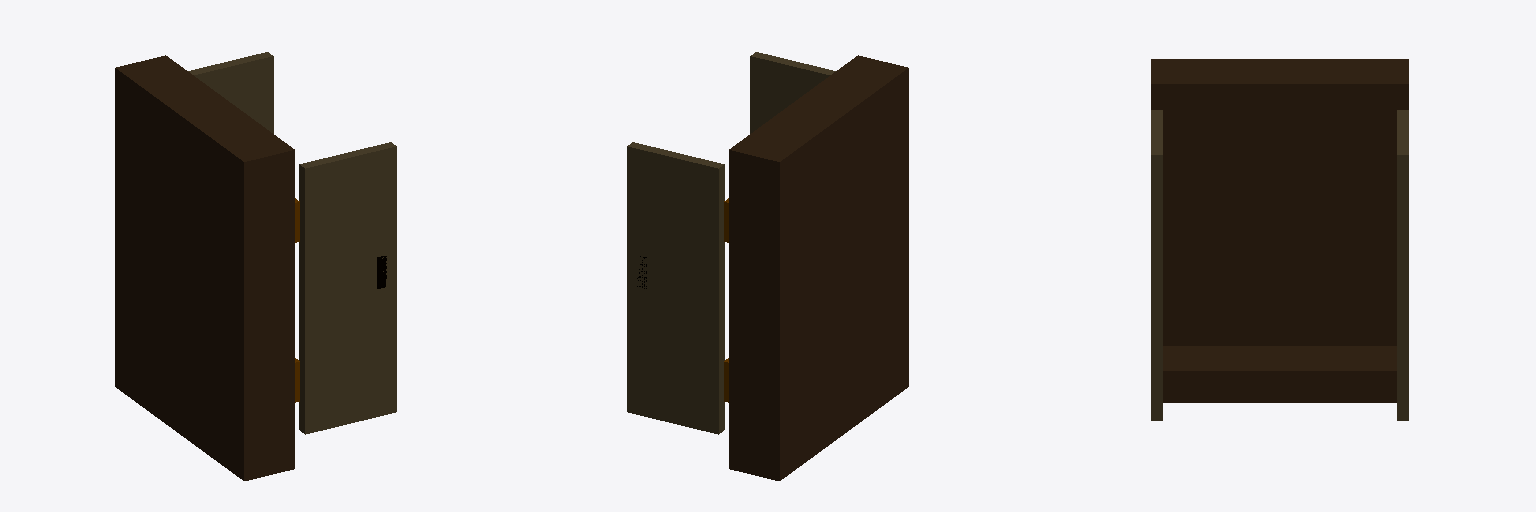
Rendered from doors.obj.
The picture shows the model from 3 angles: view 1: azimuth 30°, elevation 25°; view 2: azimuth 150°, elevation 25°; view 3: azimuth 270°, elevation 25°; orthographic projection.
Size of the model in its own units: 120 by 240 by 176.